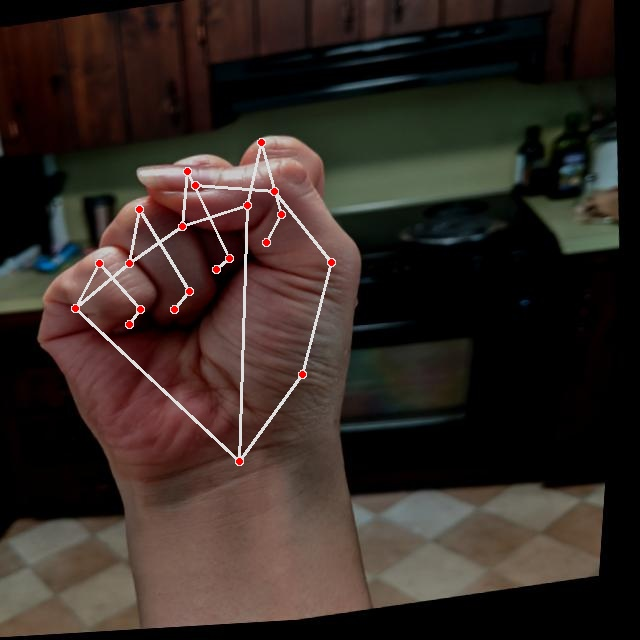S: (9, 117, 400, 506)
